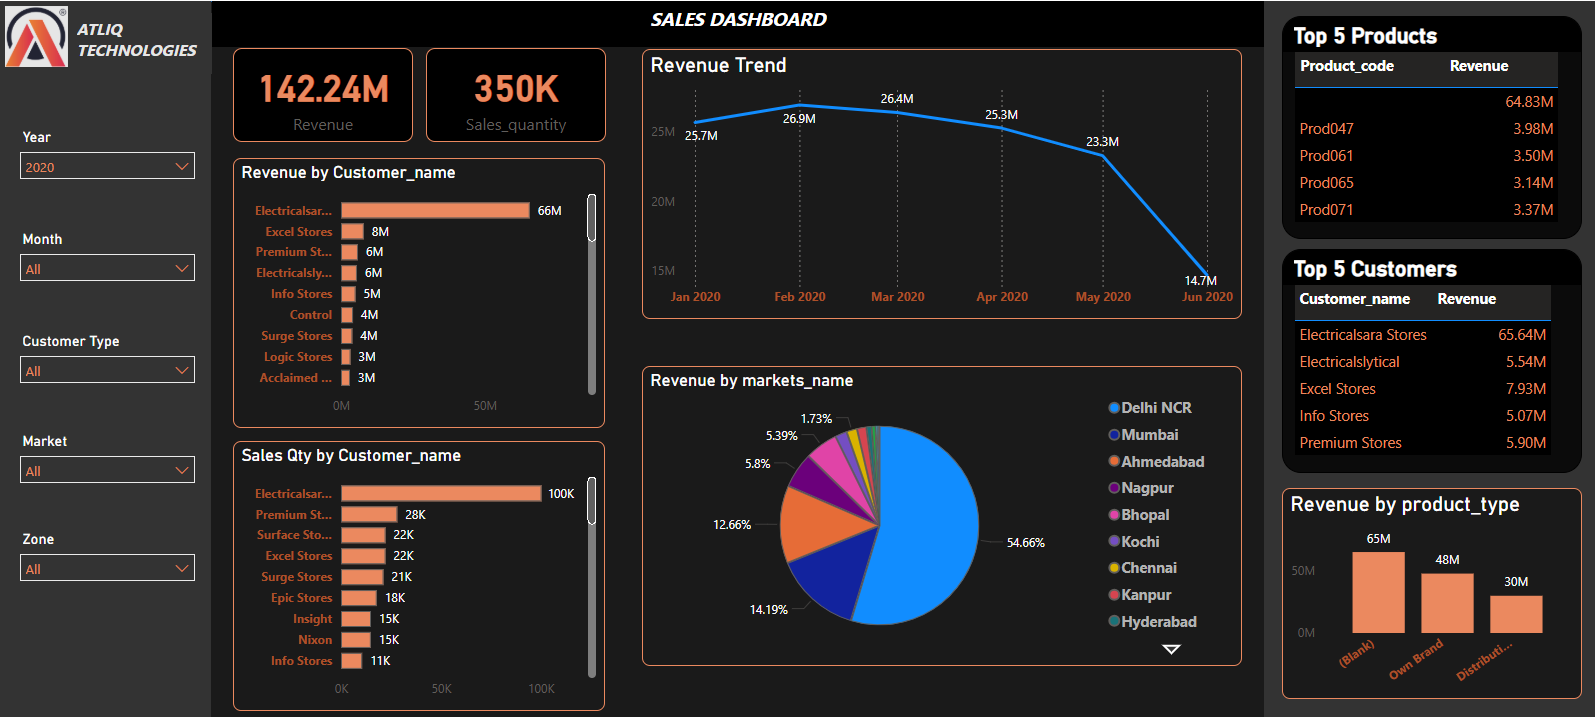

Layout of this report page (visuals, bound fields, positions):
{"tool":"powerbi","page":{"name":"Page 1","canvas":[1600,720],"ordinal":0},"visuals":[{"type":"group","id":"g1","title":"Group 1","box":[0,0,1600.7,720],"z":0},{"type":"shape","box":[71.7,0,1280,720],"z":0,"group":"g1"},{"type":"shape","box":[0,0,211.4,720],"z":1000,"group":"g1"},{"type":"card","fields":{"Values":["Base Measures.Revenue"]},"box":[232.9,47.1,180,94.3],"z":1000},{"type":"shape","box":[1264,0,336.7,720],"z":2000,"group":"g1"},{"type":"card","fields":{"Values":["Base Measures.Sales_quantity"]},"box":[425.7,47.1,180,94.3],"z":2000},{"type":"textbox","box":[212,0,1052,46],"z":3000,"group":"g1"},{"type":"barChart","title":"Revenue by Customer_name","fields":{"Category":["sales customers.custmer_name"],"Y":["Base Measures.Revenue"]},"box":[233.3,156.7,371.7,270],"z":3000},{"type":"image","box":[0,0,74.3,71.4],"z":4000,"group":"g1"},{"type":"barChart","title":"Sales Qty by Customer_name","fields":{"Category":["sales customers.custmer_name"],"Y":["Base Measures.Sales_quantity"]},"box":[233.3,440,371.7,270],"z":4000},{"type":"textbox","box":[72,12,140,61],"z":5000,"group":"g1"},{"type":"slicer","title":"Year","fields":{"Values":["sales date.year"]},"box":[10,123.3,195,66.7],"z":5000},{"type":"slicer","title":"Customer Type","fields":{"Values":["sales customers.customer_type"]},"box":[10,326.7,195,66.7],"z":6000},{"type":"slicer","title":"Month Slicer","fields":{"Values":["sales date.cy_date"]},"box":[10,225,195,66.7],"z":7000},{"type":"slicer","title":"Market Name Slicer","fields":{"Values":["sales markets.markets_name"]},"box":[10,426.7,195,66.7],"z":8000},{"type":"tableEx","title":"Top 5 Customers","fields":{"Values":["sales customers.custmer_name","Base Measures.Revenue"]},"box":[1281.7,248.3,300,223.3],"z":9000},{"type":"tableEx","title":"Top 5 Products","fields":{"Values":["sales products.product_code","Base Measures.Revenue"]},"box":[1281.7,15,300,223.3],"z":10000},{"type":"lineChart","title":"Revenue Trend","fields":{"Category":["sales date.cy_date"],"Y":["Base Measures.Revenue"]},"box":[641.7,48.3,600,270],"z":11000},{"type":"pieChart","fields":{"Y":["Base Measures.Revenue"],"Category":["sales markets.markets_name"]},"box":[641.7,365,600,300],"z":12000},{"type":"slicer","title":"Market Name Slicer","fields":{"Values":["sales markets.zone"]},"box":[10,525,195,66.7],"z":13000},{"type":"clusteredColumnChart","fields":{"Category":["sales products.product_type"],"Y":["Base Measures.Revenue"]},"box":[1281.7,486.7,300,211.7],"z":14000}]}

Visuals, with their boxes in screenshot pixels (x1, y1, x2, y2), scaled from the page's 1600x720 canvas onto the 1595x717 screenshot:
"Group 1" group: bbox=(0, 0, 1594, 716)
shape: bbox=(71, 0, 1347, 716)
shape: bbox=(0, 0, 211, 716)
card - Base Measures.Revenue: bbox=(232, 47, 412, 141)
shape: bbox=(1260, 0, 1594, 716)
card - Base Measures.Sales_quantity: bbox=(424, 47, 604, 141)
textbox: bbox=(211, 0, 1260, 46)
"Revenue by Customer_name" barChart: bbox=(233, 156, 603, 425)
image: bbox=(0, 0, 74, 71)
"Sales Qty by Customer_name" barChart: bbox=(233, 438, 603, 707)
textbox: bbox=(72, 12, 211, 73)
"Year" slicer: bbox=(10, 123, 204, 189)
"Customer Type" slicer: bbox=(10, 325, 204, 392)
"Month Slicer" slicer: bbox=(10, 224, 204, 290)
"Market Name Slicer" slicer: bbox=(10, 425, 204, 491)
"Top 5 Customers" tableEx: bbox=(1278, 247, 1577, 470)
"Top 5 Products" tableEx: bbox=(1278, 15, 1577, 237)
"Revenue Trend" lineChart: bbox=(640, 48, 1238, 317)
pieChart - Base Measures.Revenue x sales markets.markets_name: bbox=(640, 363, 1238, 662)
"Market Name Slicer" slicer: bbox=(10, 523, 204, 589)
clusteredColumnChart - sales products.product_type x Base Measures.Revenue: bbox=(1278, 485, 1577, 695)
